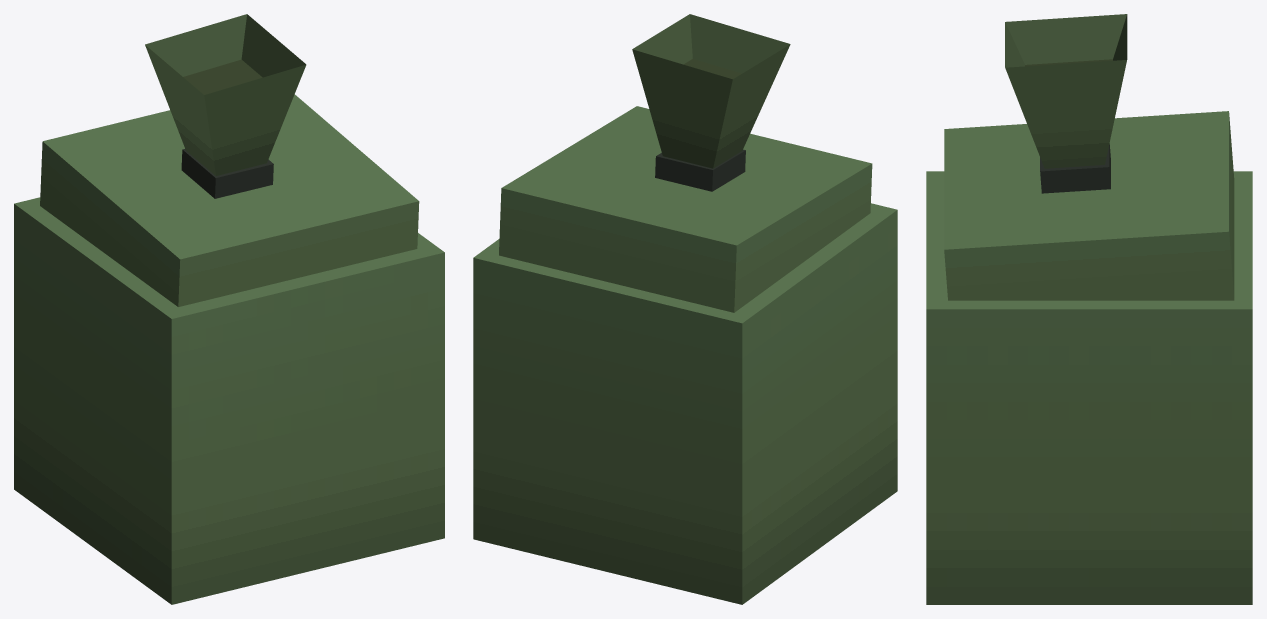
Rendered from Trash Bag.gltf.
The picture shows the model from 3 angles, left to right: view 1: azimuth 30°, elevation 25°; view 2: azimuth 150°, elevation 25°; view 3: azimuth 270°, elevation 25°; orthographic projection. The views are drawn at different scales.
Parts seen in each view (by area): view 1: cube (×3), mesh; view 2: cube (×3), mesh; view 3: cube (×3), mesh.
Part boxes in pixels (x1,y1,x2,y2): cube (×3): (14,94,444,604); mesh: (145,14,306,175); cube (×3): (473,106,897,604); mesh: (632,14,790,168); cube (×3): (926,111,1252,604); mesh: (1005,14,1127,168).
Size of the model in its own units: 0.25 by 0.4178 by 0.25.
1 material, 1 textured.
